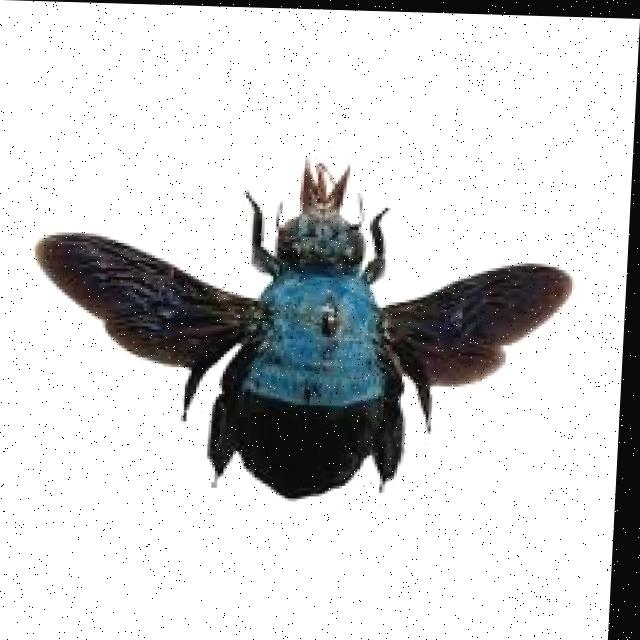Xylocopa: (14, 161, 583, 515)
